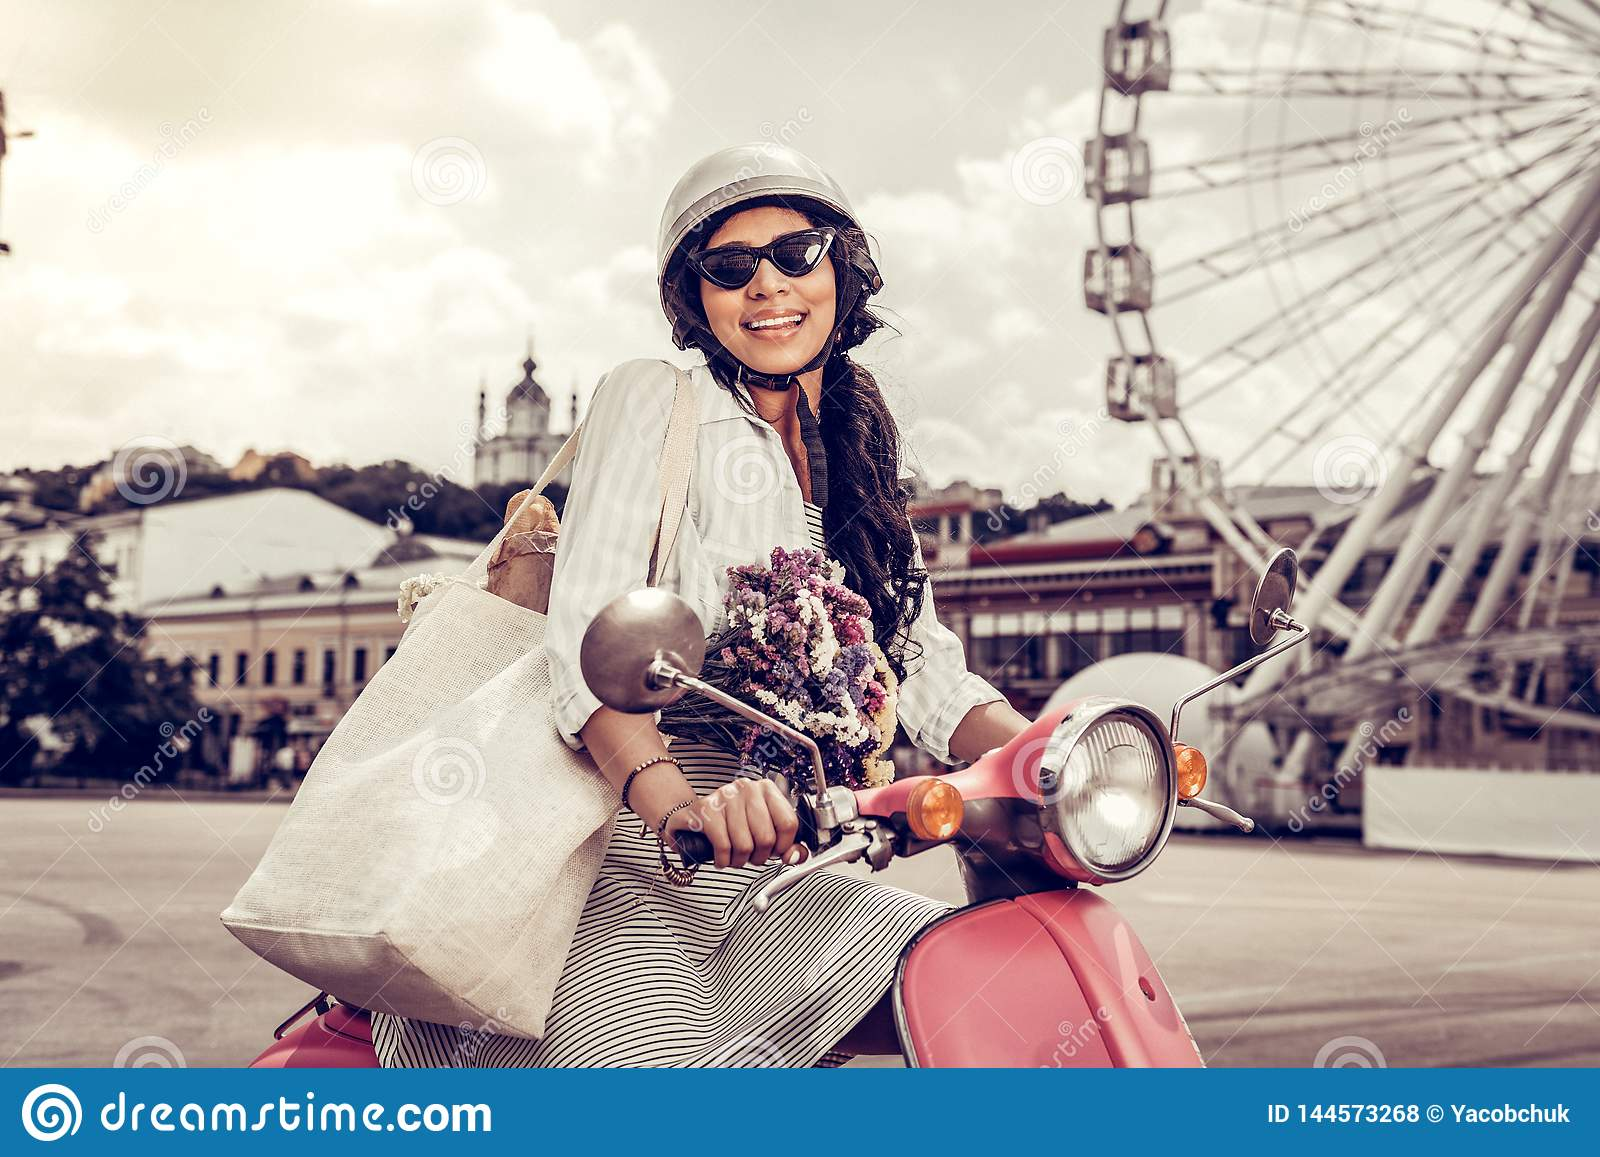helmet: (625, 114, 848, 270)
